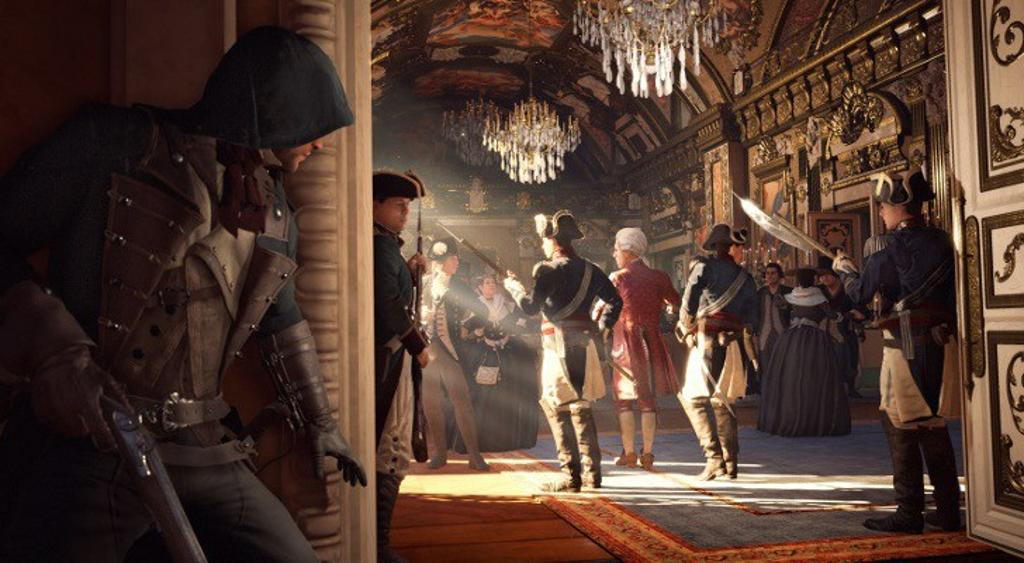face: (268, 97, 330, 173), (379, 193, 411, 231), (879, 202, 897, 229), (441, 253, 459, 275), (612, 244, 625, 268), (541, 236, 553, 258), (819, 270, 834, 286), (482, 277, 495, 294), (733, 243, 744, 263), (766, 268, 778, 283)
